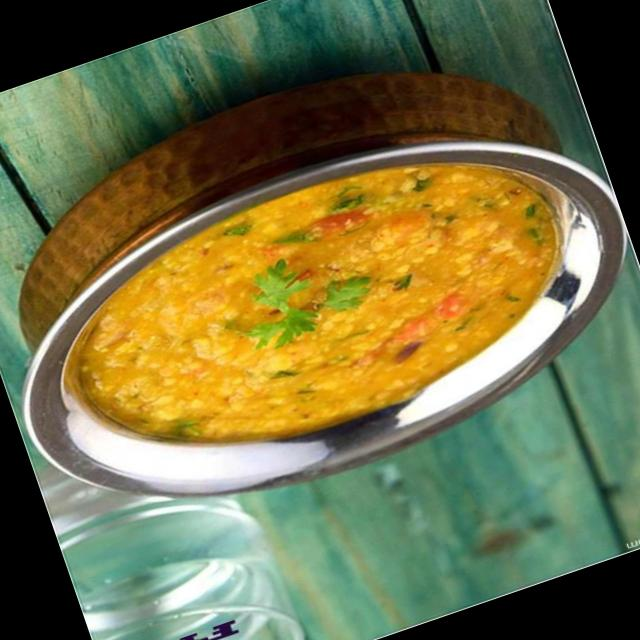dal: (40, 117, 592, 498)
